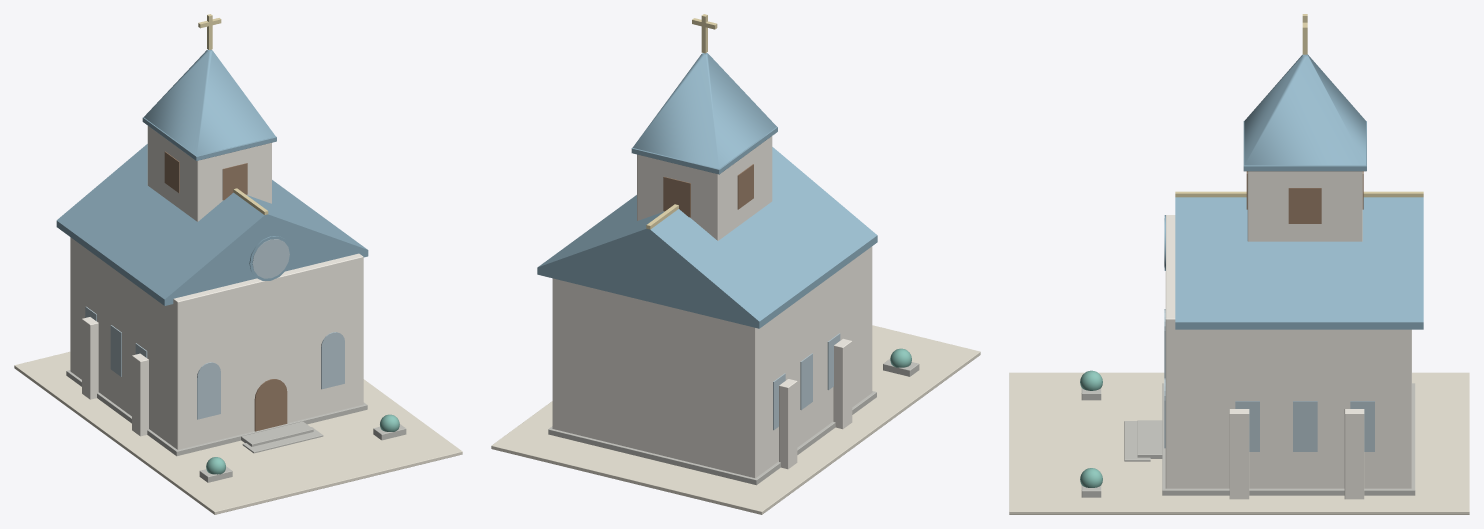
Rendered from LM_ENV_Church.glb.
3 renders of one model, left to right at view 1: azimuth 30°, elevation 25°; view 2: azimuth 150°, elevation 25°; view 3: azimuth 270°, elevation 25°, orthographic. The views are drawn at different scales.
Visible parts, largest first — view 1: Church | Church cream, Church | Church blue, Church | Plaza stone, Church | Window glass, Church | Grey stone, Church | Dark timber, Church | Dome teal, Church | Gold trim; view 2: Church | Church cream, Church | Church blue, Church | Plaza stone, Church | Grey stone, Church | Dark timber, Church | Window glass, Church | Gold trim; view 3: Church | Church cream, Church | Church blue, Church | Plaza stone, Church | Grey stone, Church | Window glass, Church | Dark timber, Church | Gold trim, Church | Dome teal.
Part boxes in pixels (x1=…): Church | Church cream: x1=70, y1=126, x2=363, y2=449; Church | Church blue: x1=56, y1=49, x2=368, y2=305; Church | Plaza stone: x1=14, y1=351, x2=462, y2=514; Church | Window glass: x1=85, y1=239, x2=344, y2=419; Church | Grey stone: x1=66, y1=370, x2=406, y2=482; Church | Dark timber: x1=164, y1=151, x2=287, y2=431; Church | Dome teal: x1=206, y1=414, x2=399, y2=474; Church | Gold trim: x1=198, y1=14, x2=268, y2=214; Church | Church cream: x1=552, y1=136, x2=872, y2=478; Church | Church blue: x1=537, y1=53, x2=877, y2=328; Church | Plaza stone: x1=491, y1=325, x2=980, y2=514; Church | Grey stone: x1=548, y1=359, x2=919, y2=485; Church | Dark timber: x1=663, y1=164, x2=753, y2=217; Church | Window glass: x1=773, y1=333, x2=840, y2=430; Church | Gold trim: x1=646, y1=14, x2=717, y2=229; Church | Church cream: x1=1165, y1=171, x2=1411, y2=499; Church | Church blue: x1=1164, y1=54, x2=1423, y2=329; Church | Plaza stone: x1=1009, y1=372, x2=1469, y2=514; Church | Grey stone: x1=1081, y1=383, x2=1415, y2=497; Church | Window glass: x1=1164, y1=218, x2=1374, y2=451; Church | Dark timber: x1=1246, y1=171, x2=1363, y2=223; Church | Gold trim: x1=1175, y1=14, x2=1423, y2=197; Church | Dome teal: x1=1080, y1=370, x2=1102, y2=487.
Size of the model in its own units: 20 by 28.9 by 28.
